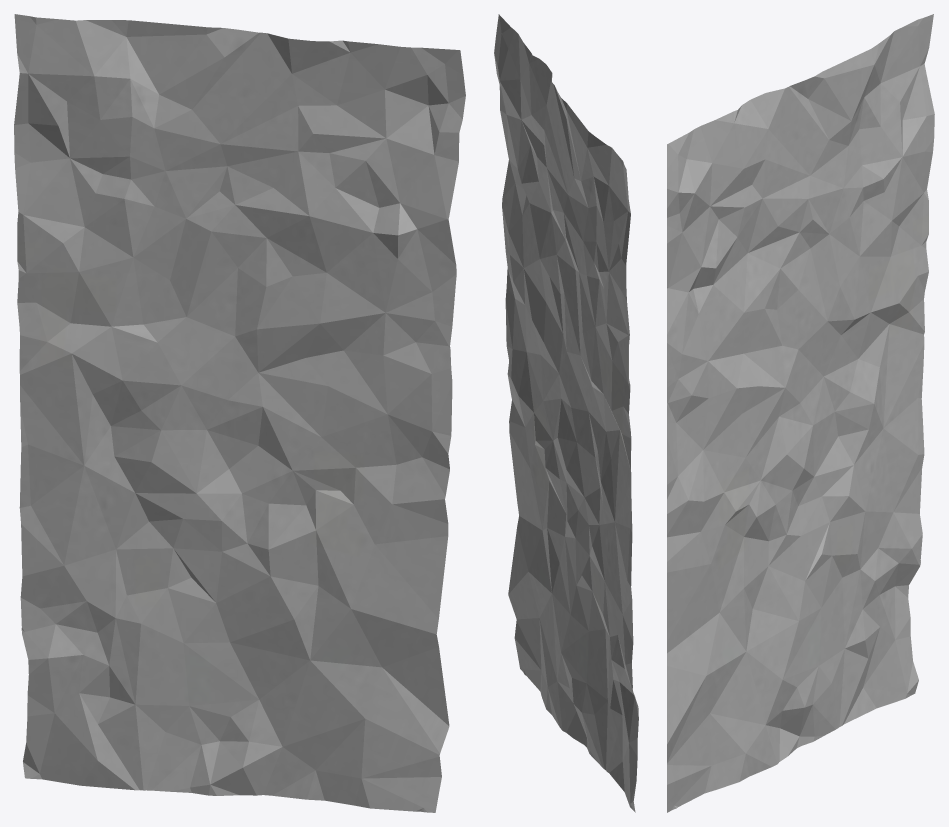
3 renders of one model, left to right at view 1: azimuth 30°, elevation 25°; view 2: azimuth 150°, elevation 25°; view 3: azimuth 270°, elevation 25°, orthographic. The views are drawn at different scales.
Bounding box in the file's own units: 0.3507 × 0.8374 × 0.2989.
1 material, 1 textured.
